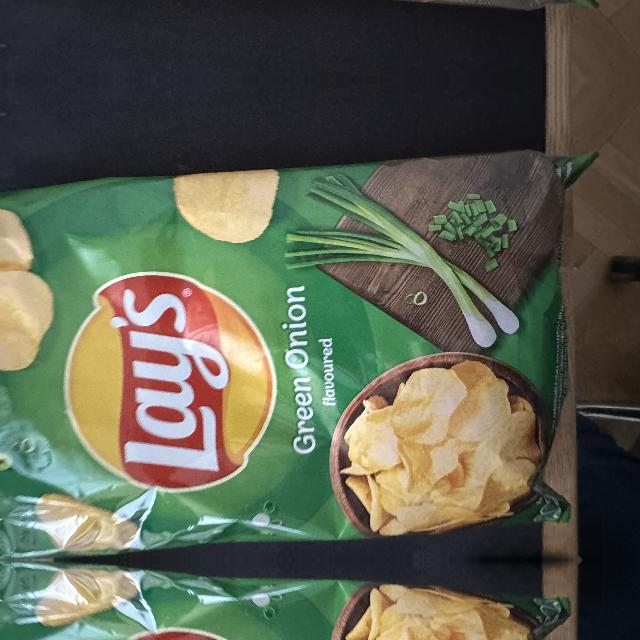lays: (64, 272, 278, 495)
